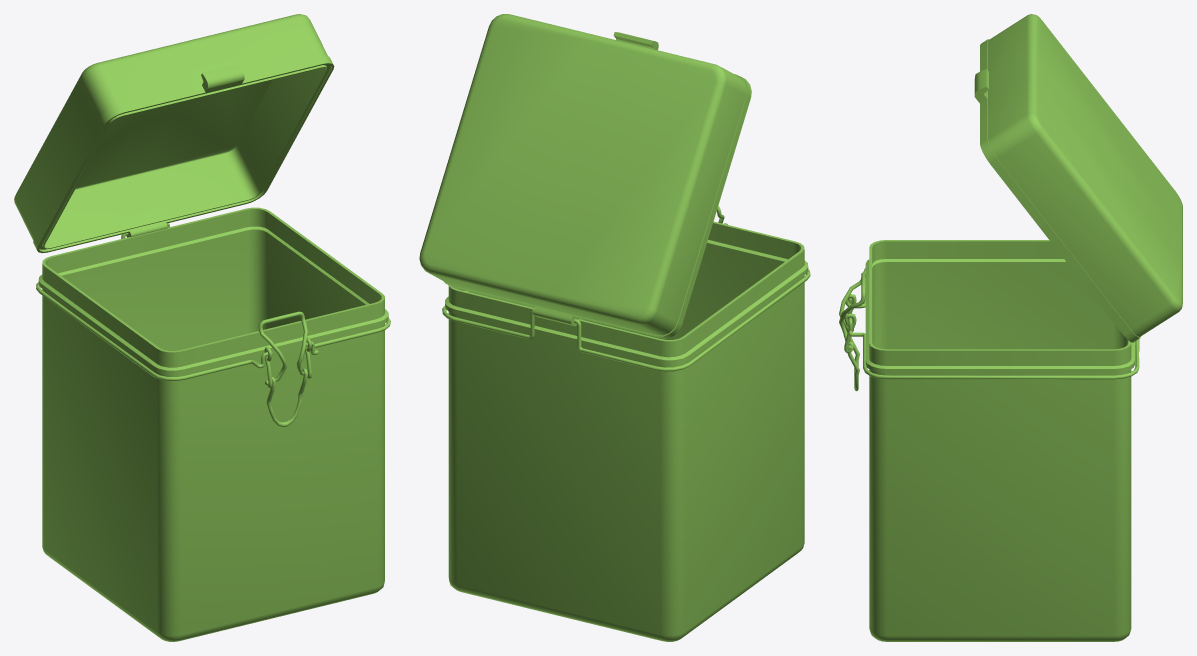
3 renders of one model, left to right at view 1: azimuth 30°, elevation 25°; view 2: azimuth 150°, elevation 25°; view 3: azimuth 270°, elevation 25°, orthographic. The views are drawn at different scales.
Parts seen in each view (by area): view 1: Box_1; view 2: Box_1; view 3: Box_1.
Part boxes in pixels (x1,y1,x2,y2): Box_1: (14, 14, 390, 641); Box_1: (419, 14, 810, 641); Box_1: (839, 14, 1182, 641).
Bounding box in the file's own units: 10.45 × 22.13 × 13.12.
